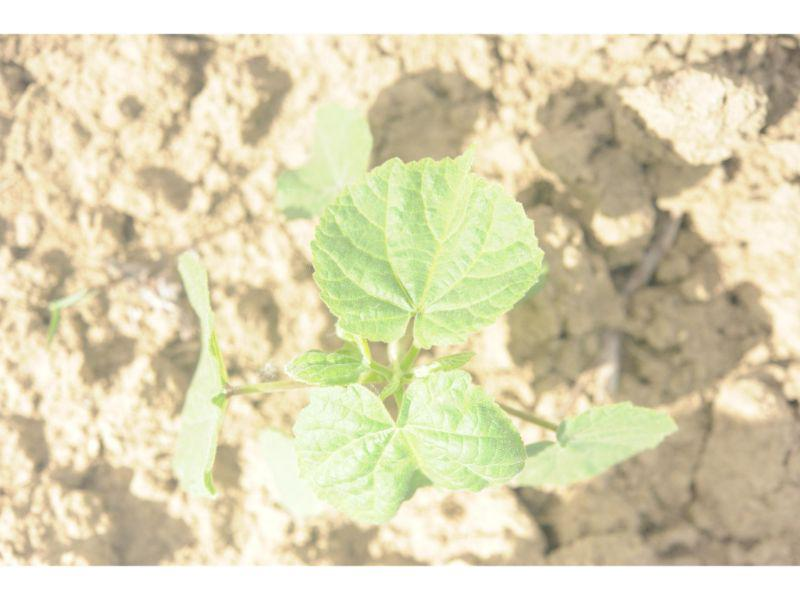velvet: (175, 101, 676, 523)
